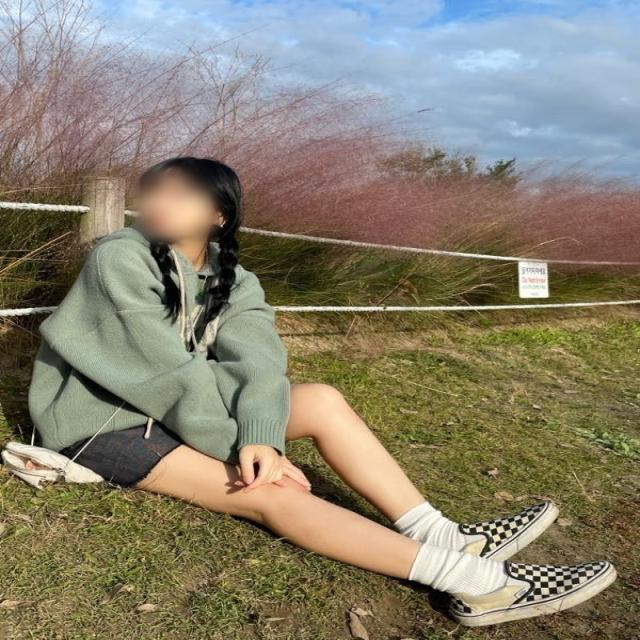sweater: (24, 225, 318, 468)
